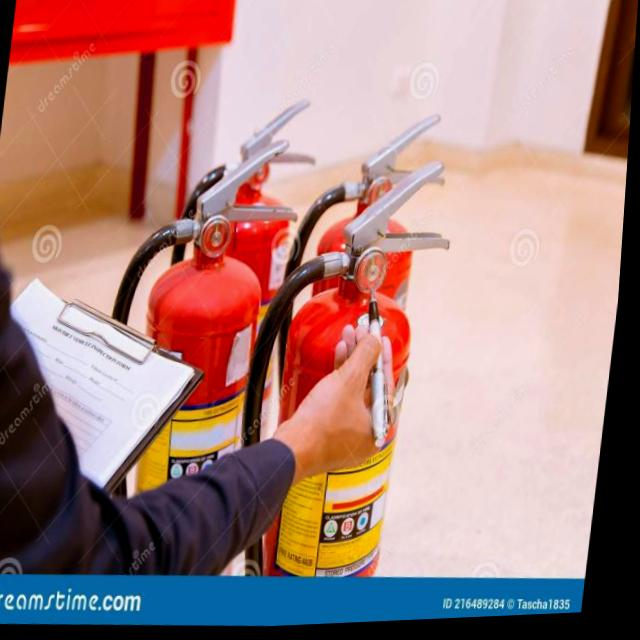FireExtinguisher: (83, 128, 316, 590), (230, 152, 470, 589), (259, 101, 463, 586), (130, 89, 329, 576)
